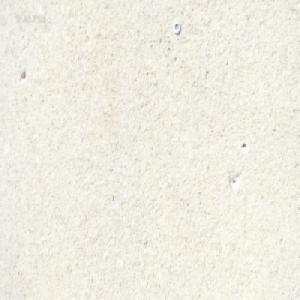Washer: (172, 20, 180, 35)
